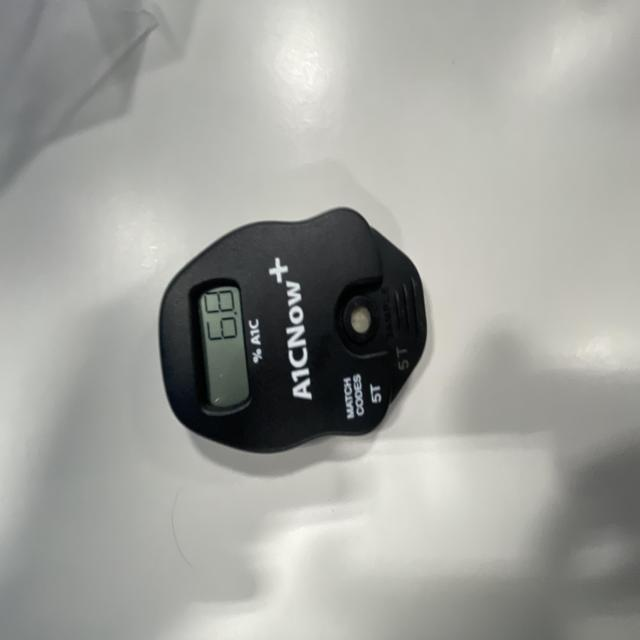hba1c: (156, 207, 434, 460)
